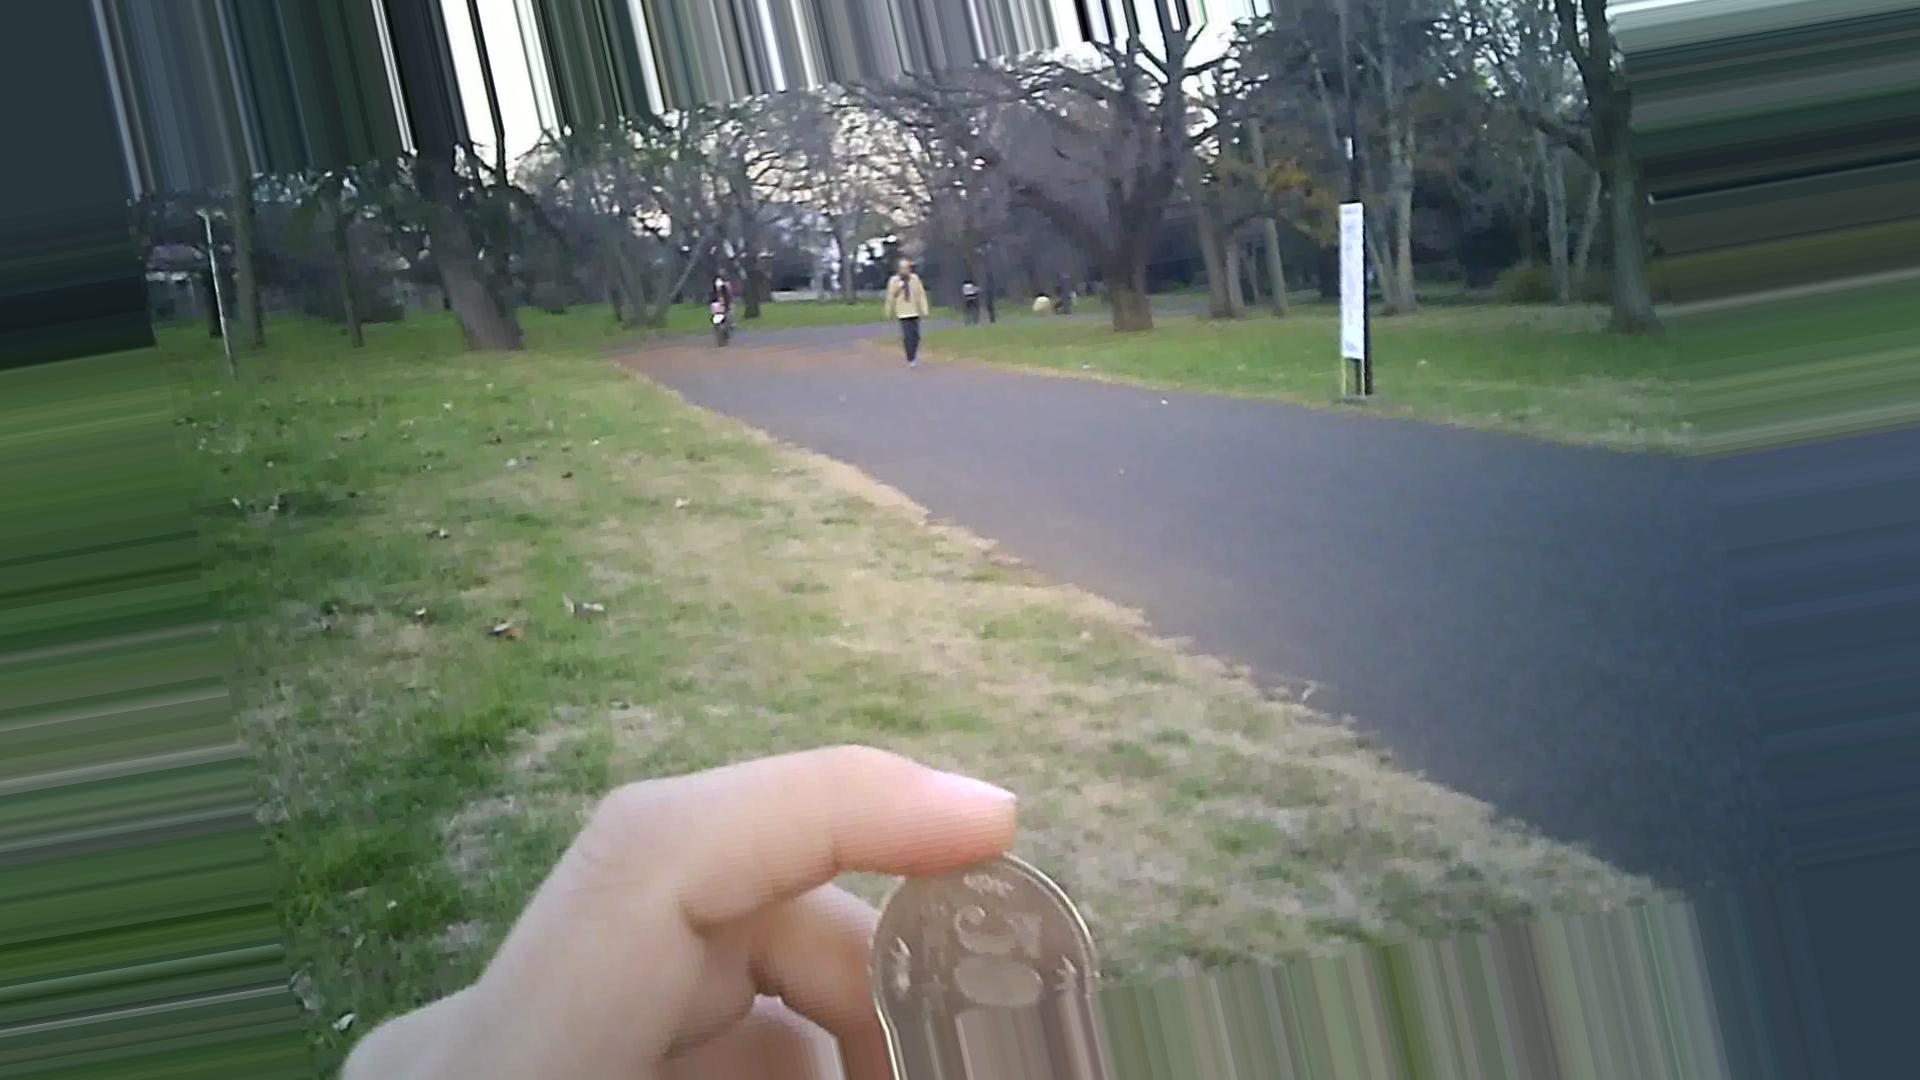500 Yen: (845, 837, 1127, 1047)
